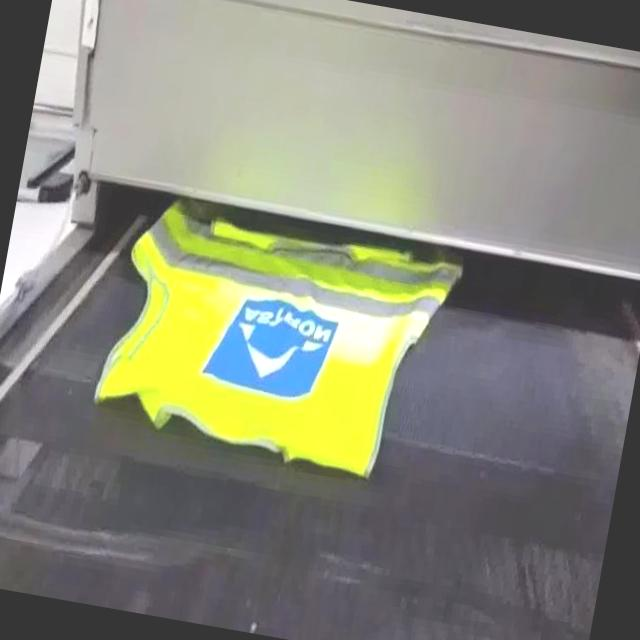vest: (86, 202, 467, 493)
